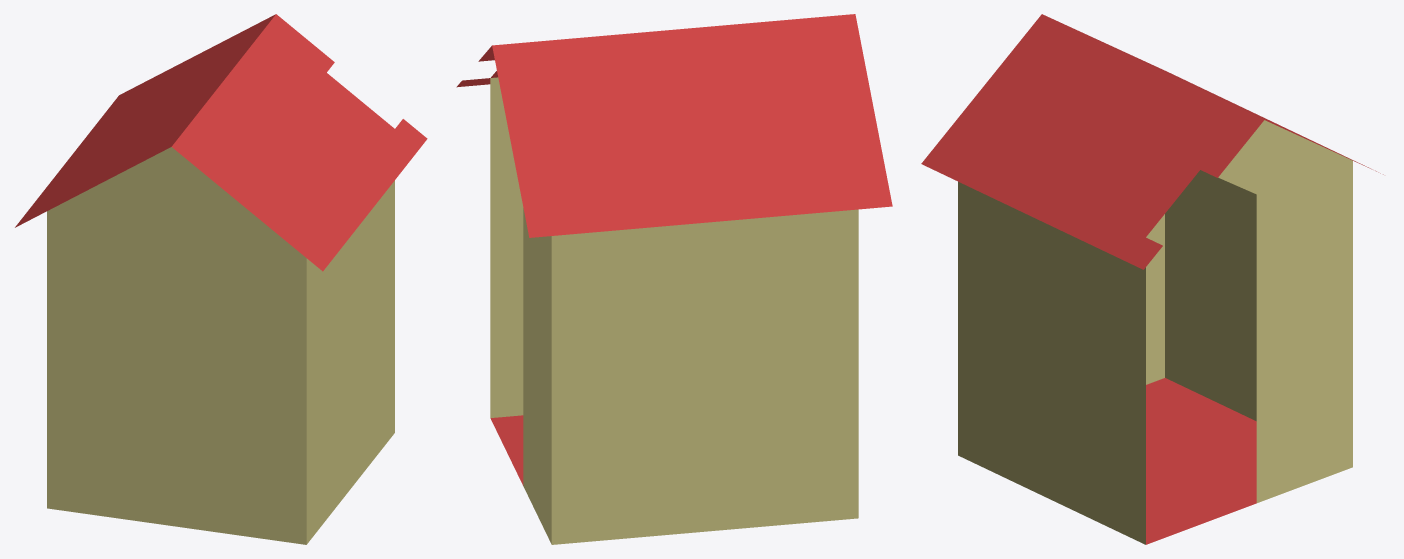
The picture shows the model from 3 angles, left to right: view 1: azimuth 30°, elevation 25°; view 2: azimuth 150°, elevation 25°; view 3: azimuth 270°, elevation 25°; orthographic projection. The views are drawn at different scales.
Size of the model in its own units: 13.49 by 13.47 by 12.53.
